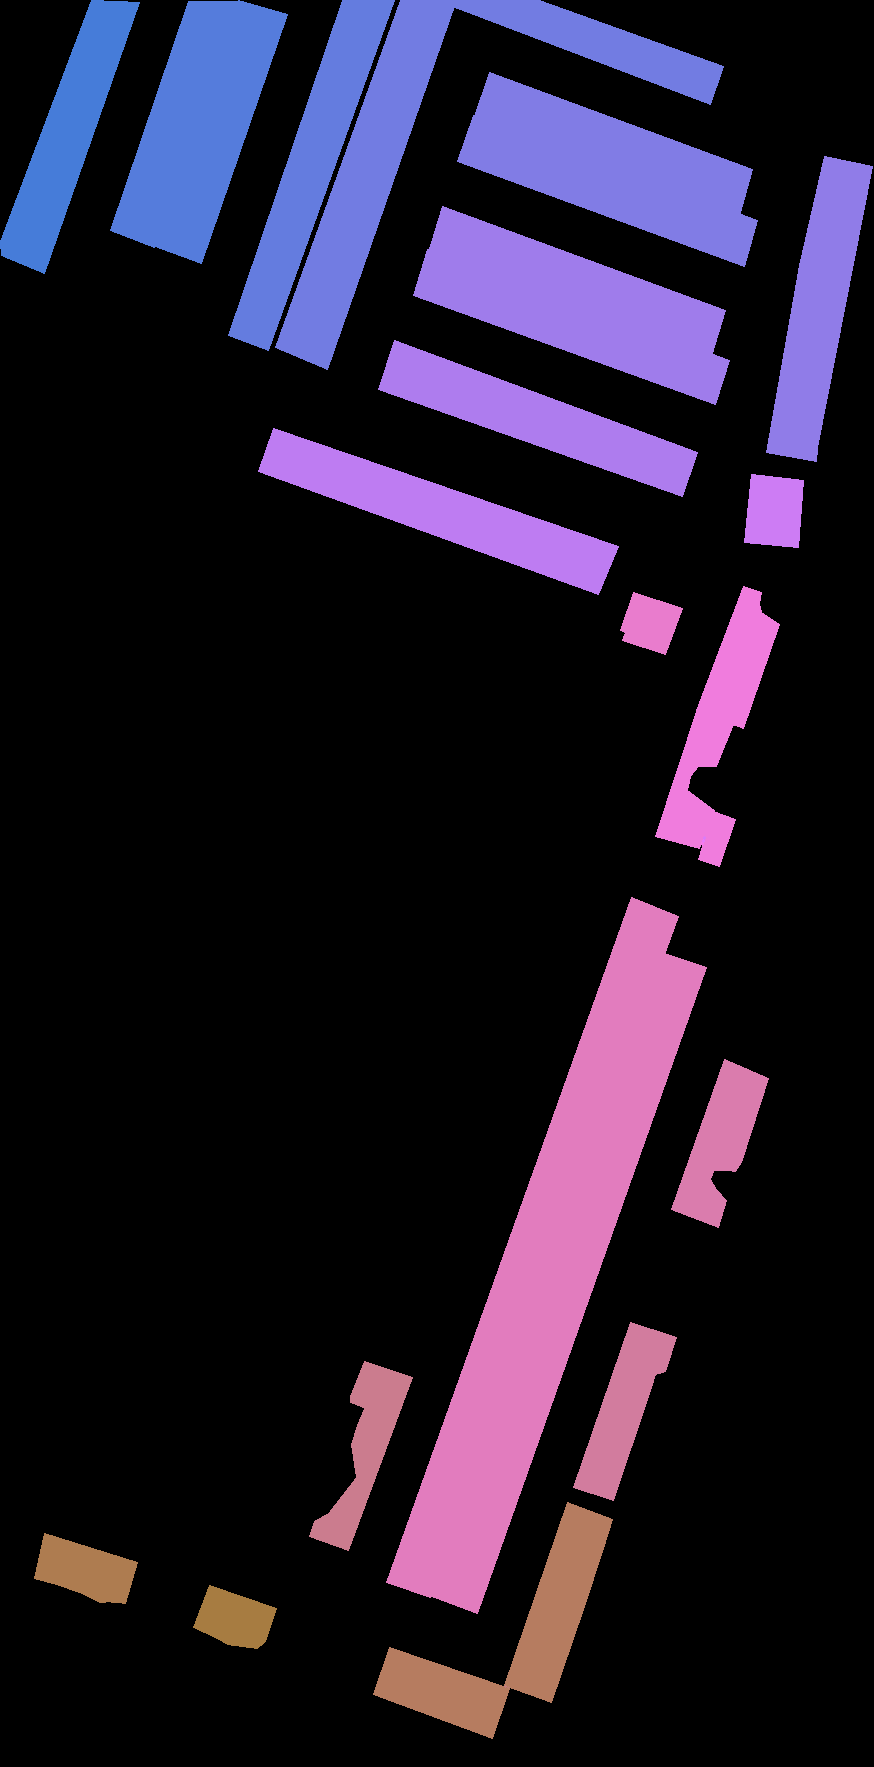parkingspot: (386, 897, 678, 1597), (426, 951, 706, 1613), (275, 0, 456, 369), (258, 428, 618, 594), (228, 0, 394, 350), (378, 340, 697, 496), (413, 249, 729, 405), (457, 115, 757, 266), (427, 206, 725, 356), (473, 72, 752, 216), (0, 0, 139, 273), (152, 0, 287, 263), (110, 1, 242, 247), (766, 156, 872, 461), (452, 0, 723, 104), (503, 1502, 612, 1702), (309, 1361, 412, 1550), (573, 1322, 676, 1500), (671, 1059, 768, 1227), (373, 1648, 509, 1738), (696, 586, 779, 728), (655, 705, 735, 847), (34, 1533, 137, 1602), (193, 1584, 276, 1648), (744, 474, 803, 547), (619, 592, 683, 654), (698, 811, 735, 865)
